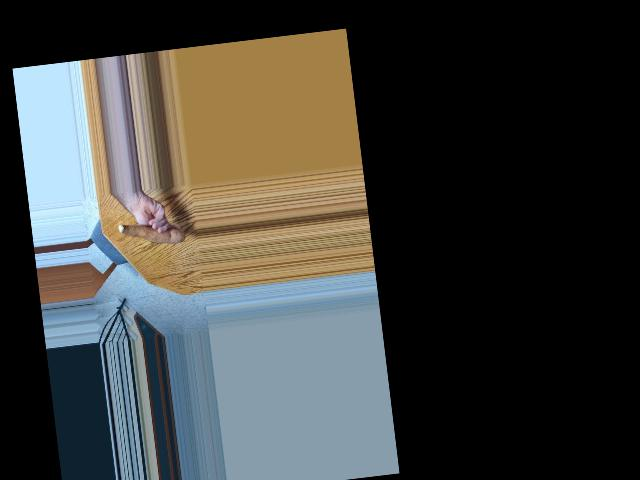sweet_potato: (116, 215, 183, 253)
